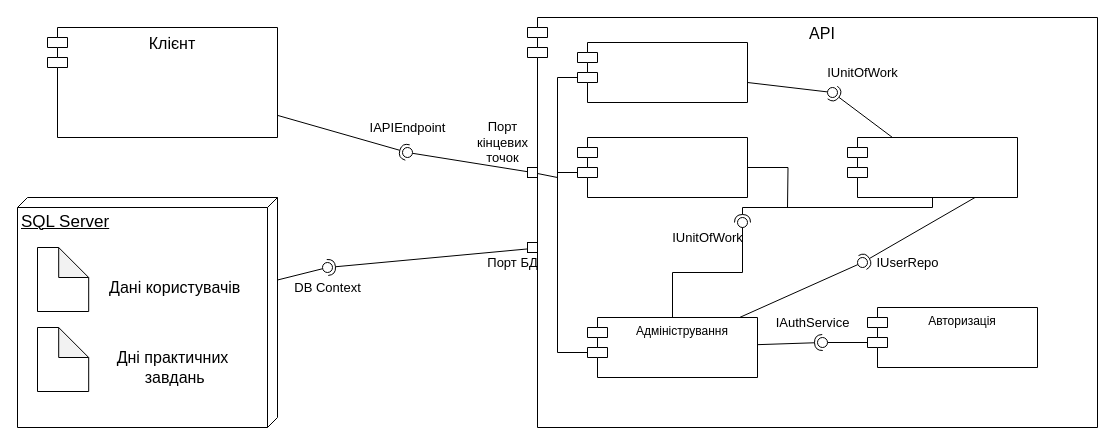
Some shapes in this 1115 by 445 pixel diagram are drawn without their labels. Here are the shapes that lost their labels. From the top down, the centre of each, then its label:
the point at 662,72: Статистика успішності користувача
the point at 662,167: Проходження практичних завдань
the point at 932,167: Взаємодія з БД
